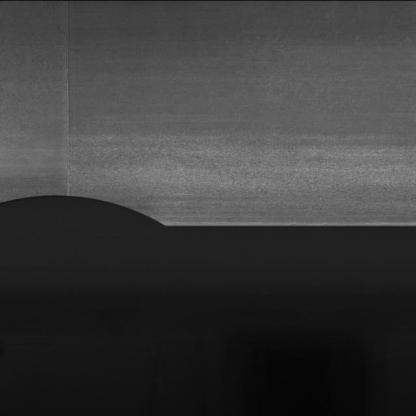crescent_gap: (4, 184, 186, 240)
welding_line: (57, 0, 85, 196)
